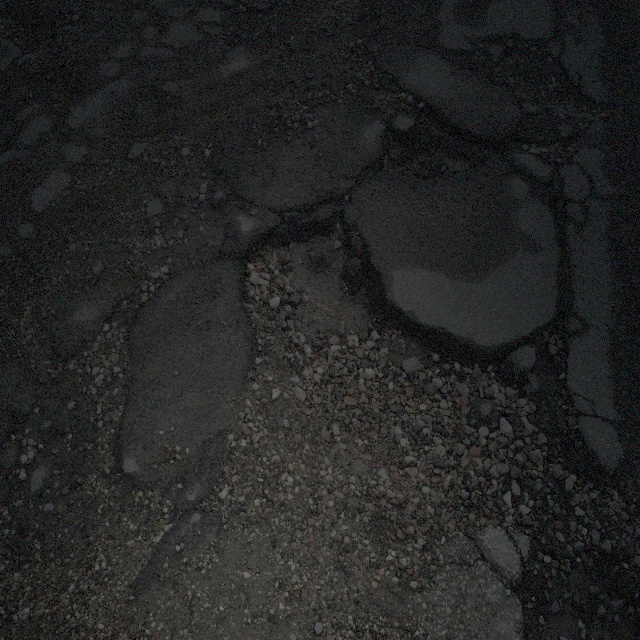pothole: (240, 200, 394, 376), (378, 71, 490, 183)
